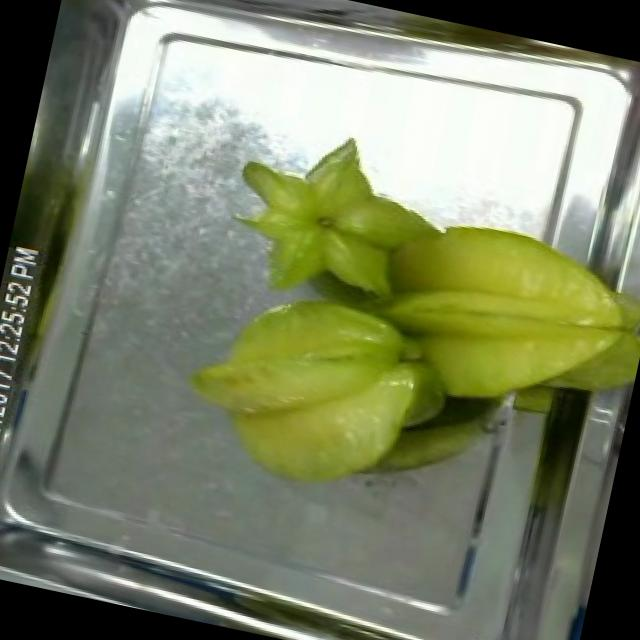fruit: (158, 258, 444, 520), (358, 196, 640, 447), (211, 106, 453, 316)
